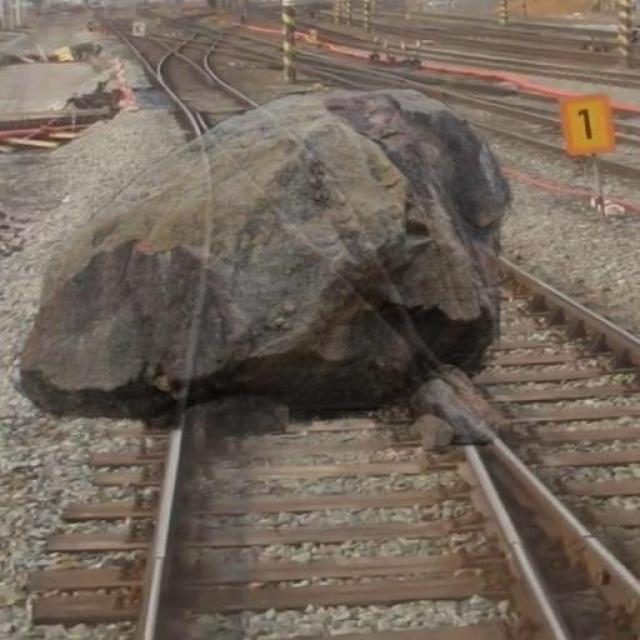Stone: (23, 80, 518, 448)
